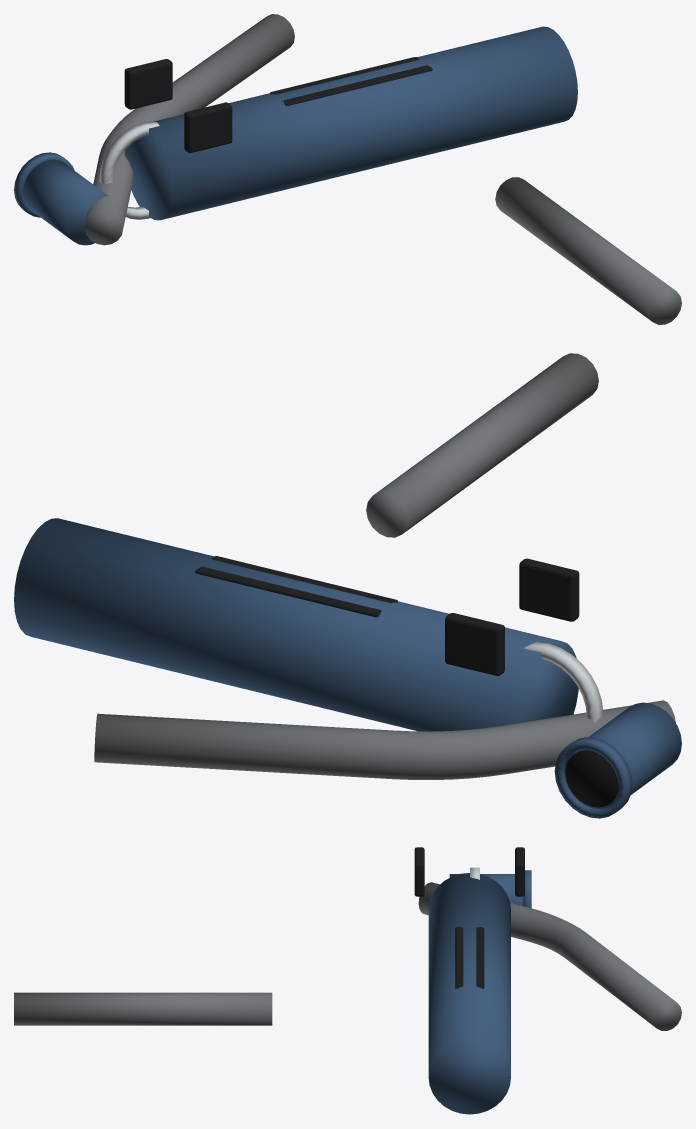
File: exhaust_apio_yoshimura_ti.glb
3 renders of one model, top to bottom at view 1: azimuth 30°, elevation 25°; view 2: azimuth 150°, elevation 25°; view 3: azimuth 270°, elevation 25°, orthographic. The views are drawn at different scales.
Parts seen in each view (by area): view 1: cannon, tail0.004, inlet.005, tip0.004, hanger-1630, hanger-1490, logo, cannonEndL, tip0Roll.002; view 2: cannon, tail0.004, inlet.005, tip0.004, hanger-1490, hanger-1630, logo, tip0Roll.002, tip0Mouth.004, cannonEndL; view 3: cannon, inlet.005, tail0.004, logo, hanger-1490, tip0.004, hanger-1630.
Boxes of the visible parts, x1=… form: cannon: x1=124, y1=26, x2=577, y2=220; tail0.004: x1=84, y1=14, x2=294, y2=245; inlet.005: x1=495, y1=177, x2=681, y2=324; tip0.004: x1=23, y1=160, x2=108, y2=245; hanger-1630: x1=124, y1=59, x2=172, y2=109; hanger-1490: x1=184, y1=102, x2=232, y2=152; logo: x1=270, y1=57, x2=432, y2=105; cannonEndL: x1=99, y1=121, x2=159, y2=219; tip0Roll.002: x1=14, y1=152, x2=74, y2=217; cannon: x1=14, y1=518, x2=578, y2=731; tail0.004: x1=94, y1=700, x2=675, y2=779; inlet.005: x1=366, y1=353, x2=598, y2=537; tip0.004: x1=564, y1=702, x2=681, y2=808; hanger-1490: x1=519, y1=558, x2=579, y2=621; hanger-1630: x1=445, y1=613, x2=504, y2=675; logo: x1=195, y1=556, x2=397, y2=617; tip0Roll.002: x1=554, y1=737, x2=632, y2=818; tip0Mouth.004: x1=565, y1=750, x2=618, y2=807; cannonEndL: x1=523, y1=642, x2=603, y2=722; cannon: x1=428, y1=873, x2=510, y2=1114; inlet.005: x1=14, y1=992, x2=272, y2=1025; tail0.004: x1=418, y1=882, x2=681, y2=1030; logo: x1=455, y1=927, x2=484, y2=988; hanger-1490: x1=414, y1=847, x2=424, y2=896; tip0.004: x1=449, y1=874, x2=522, y2=905; hanger-1630: x1=515, y1=847, x2=524, y2=896.
Bounding box in the file's own units: 0.684 × 0.1675 × 0.9305.
